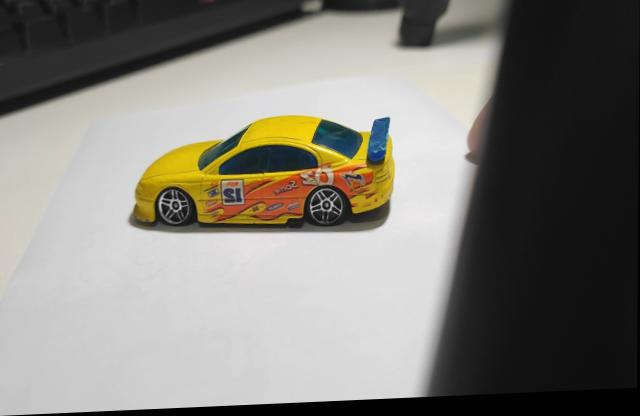02_OZSOME: (132, 118, 393, 231)
